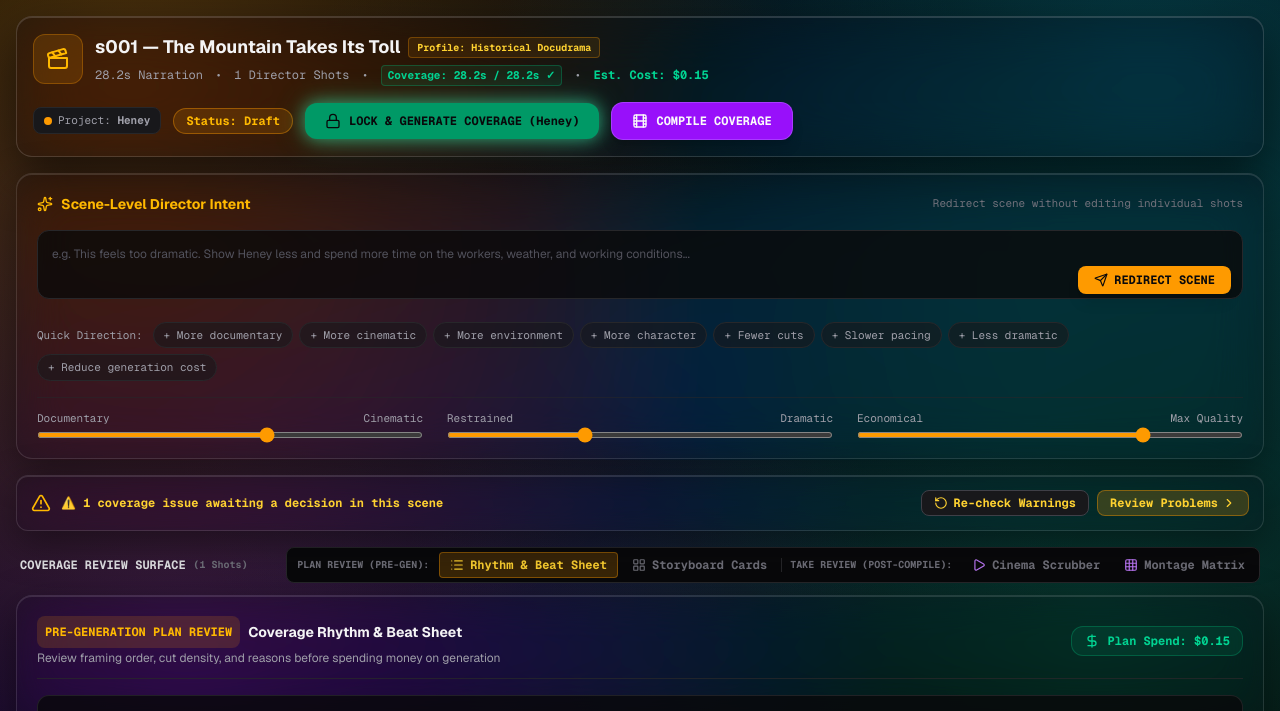
it: the critic raised findings › the server's list replaces ours, and the run is stated as a run
Click the button with test id "recheck-warnings".
click(1005, 503)  # box left=921, top=490, right=1089, bottom=516
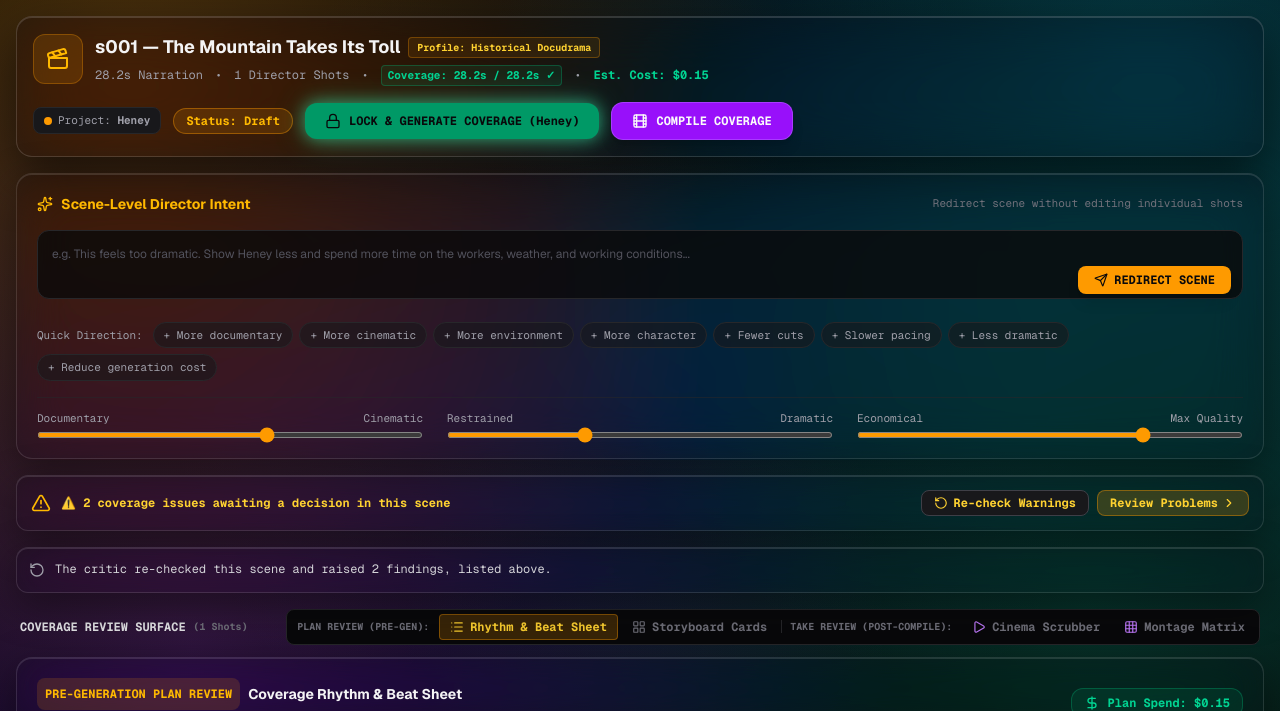
Result: the element with test id "critique-outcome" shows "raised 2 findings" at left=55, top=561, right=552, bottom=577
Result: the text with test id "unresolved-count" shows "2 coverage issues" at left=61, top=495, right=450, bottom=511
Click the button "Review Problems".
click(1173, 503)  # box left=1097, top=490, right=1249, bottom=516
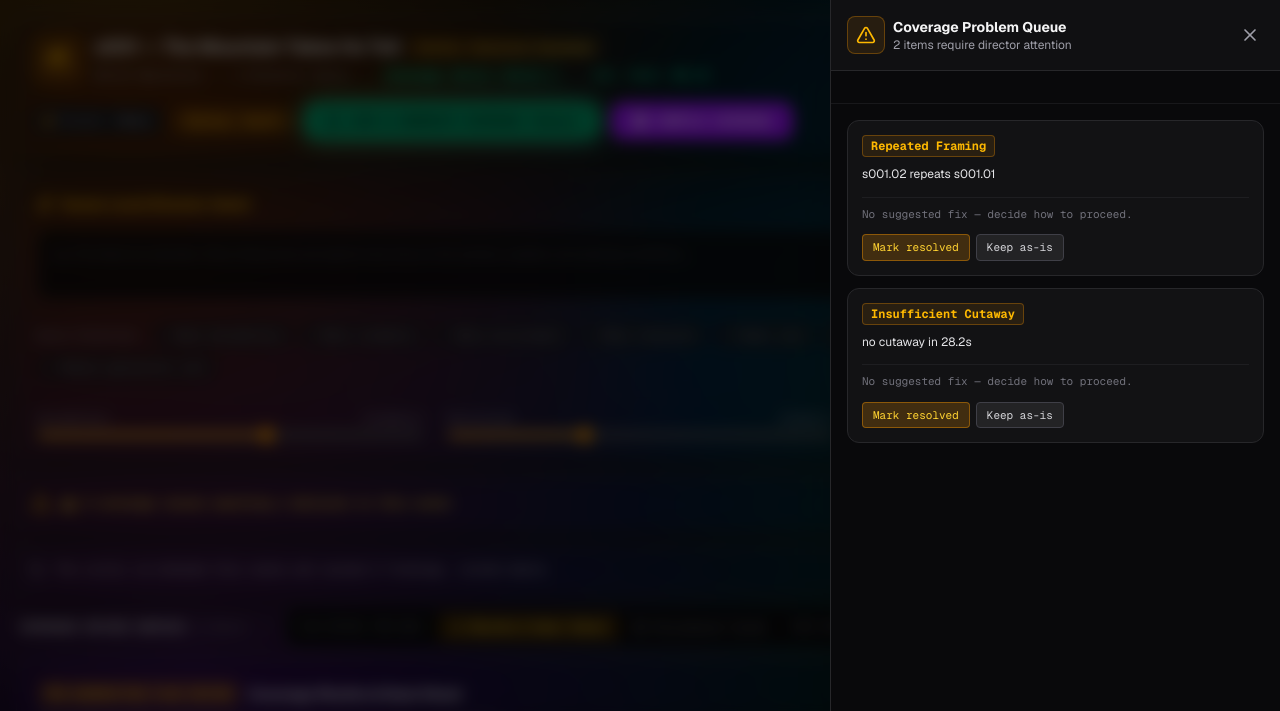
Result: the text "s001.02 repeats s001.01" is shown at left=862, top=166, right=995, bottom=182
